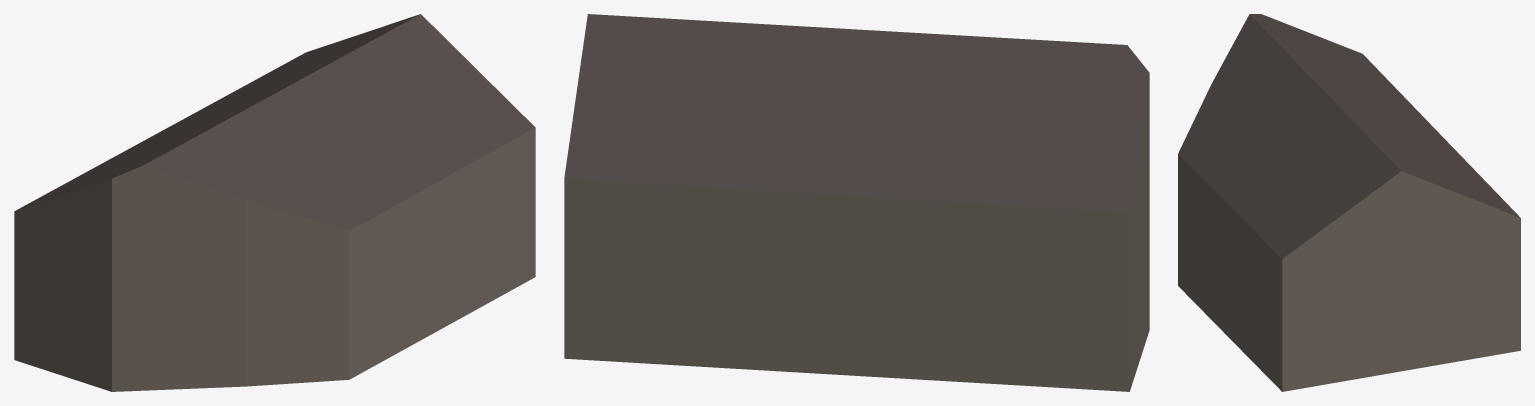
3 views of the same model, side by side, from view 1: azimuth 30°, elevation 25°; view 2: azimuth 150°, elevation 25°; view 3: azimuth 270°, elevation 25° (orthographic). The views are drawn at different scales.
Parts seen in each view (by area): view 1: HP-w373833617; view 2: HP-w373833617; view 3: HP-w373833617.
Part boxes in pixels (left/top/right/bottom): HP-w373833617: left=14, top=14, right=535, bottom=391; HP-w373833617: left=564, top=14, right=1149, bottom=391; HP-w373833617: left=1178, top=14, right=1520, bottom=391.
Bounding box in the file's own units: 30.14 × 13.65 × 21.19.
